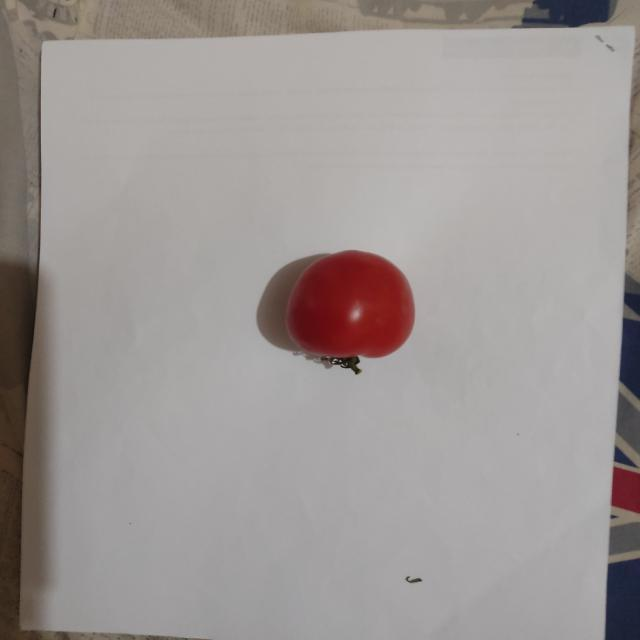kirmizi: (270, 244, 446, 388)
